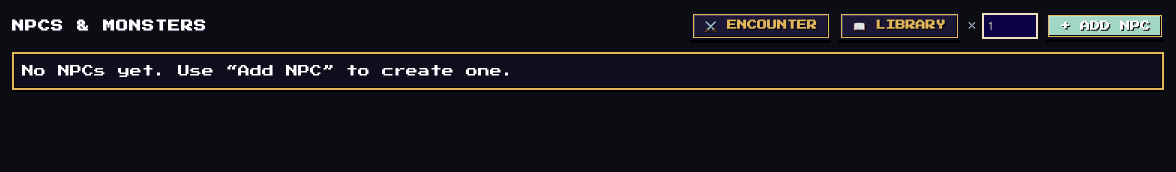
Scenario: NPCsTab — adding several at once › shows the clamped total on the button while the field still reads what was typed
Step 1. Replace the text in the number field named "how many npcs to add" with "99" → (1010, 26), box left=982, top=13, right=1038, bottom=39
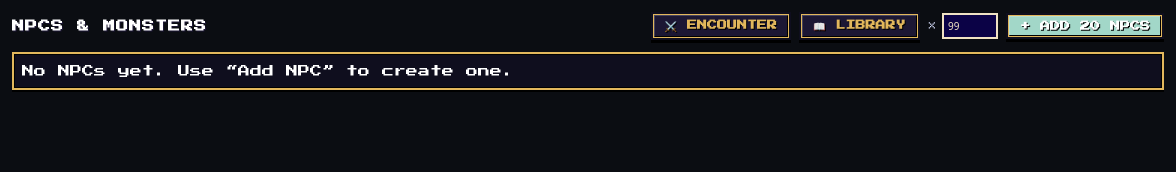
Expected: the button "+ Add 20 NPCs" is shown, left=1006, top=13, right=1164, bottom=39
Step 2. Leave the number field named "how many npcs to add", box left=942, top=13, right=998, bottom=39
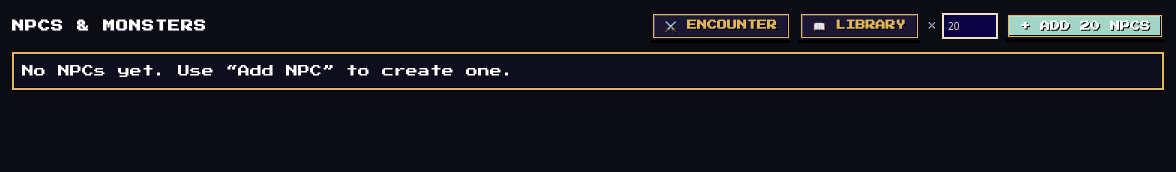
Expected: the number field named "how many npcs to add" holds "20", left=942, top=13, right=998, bottom=39
